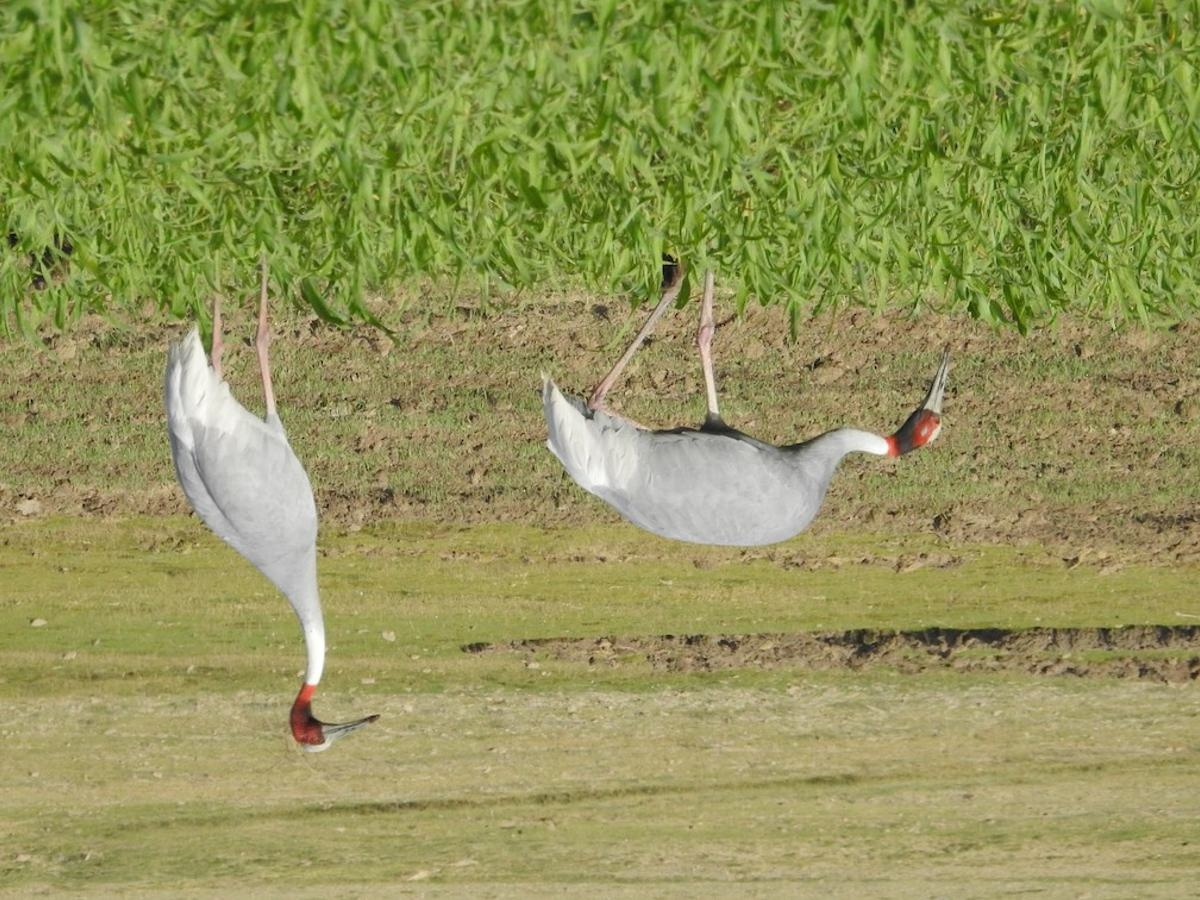crane: (527, 255, 960, 576), (147, 243, 390, 768)
